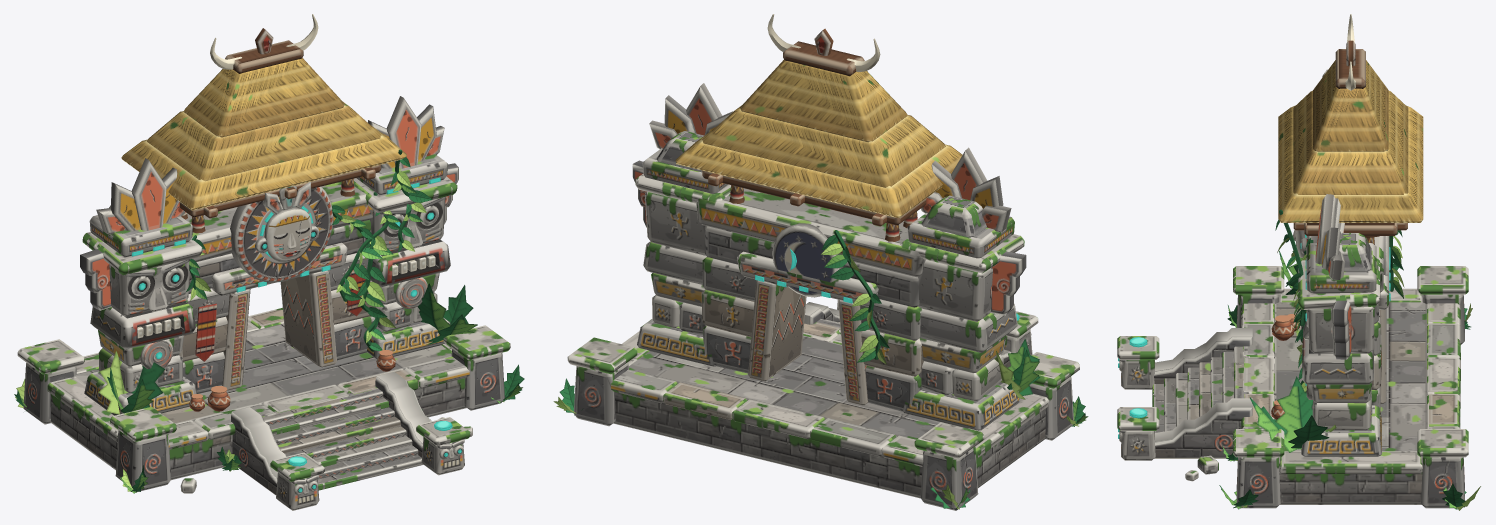
The model's file is gate_portal.glb.
3 renders of one model, left to right at view 1: azimuth 30°, elevation 25°; view 2: azimuth 150°, elevation 25°; view 3: azimuth 270°, elevation 25°, orthographic. The views are drawn at different scales.
Visible parts, largest first — view 1: gate_portal, gate_portal_glow; view 2: gate_portal; view 3: gate_portal, gate_portal_glow.
Part boxes in pixels (x1,y1,x2,y2): gate_portal: (14,14,524,510); gate_portal_glow: (131,177,461,492); gate_portal: (553,14,1088,510); gate_portal: (1117,14,1480,510); gate_portal_glow: (1118,234,1390,438).
Bounding box in the file's own units: 19.9 × 18.07 × 15.6.
2 materials, 2 textured.
